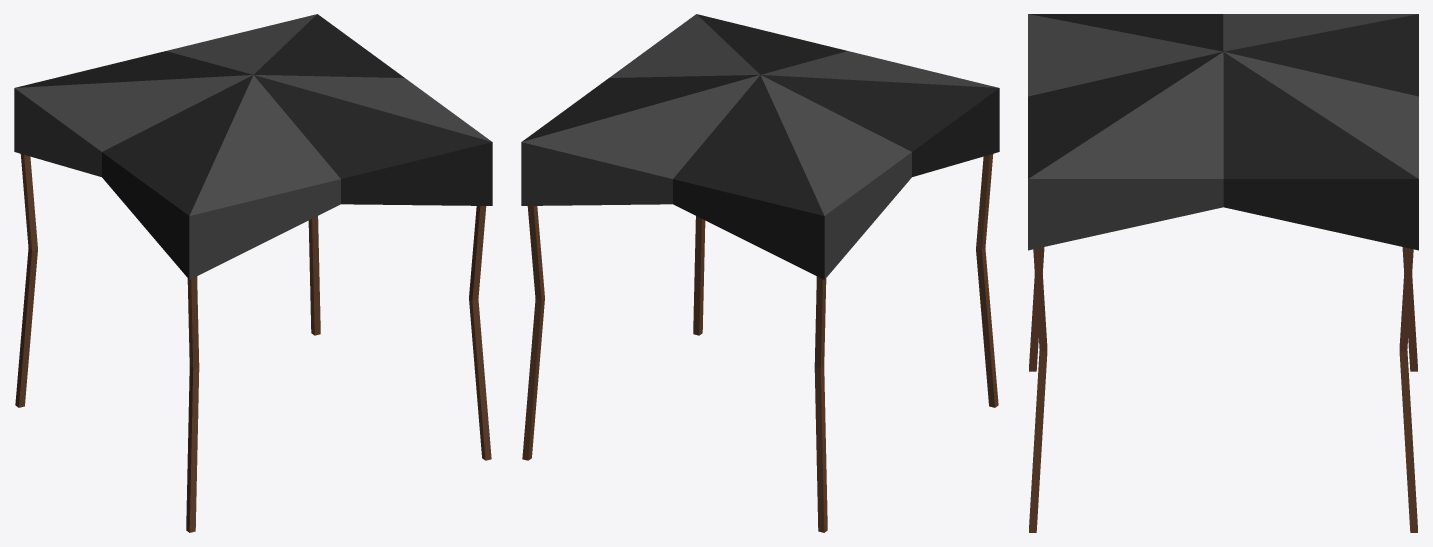
The model's file is Tent_7_Black.fbx.
3 views of the same model, side by side, from view 1: azimuth 30°, elevation 25°; view 2: azimuth 150°, elevation 25°; view 3: azimuth 270°, elevation 25° (orthographic). The views are drawn at different scales.
Parts seen in each view (by area): view 1: Tent_7_Black; view 2: Tent_7_Black; view 3: Tent_7_Black.
Boxes of the visible parts, box(x1,y1,x2,y2) form: Tent_7_Black: box(14, 14, 492, 532); Tent_7_Black: box(521, 14, 999, 532); Tent_7_Black: box(1028, 14, 1418, 532).
Size of the model in its own units: 500 by 563 by 500.
